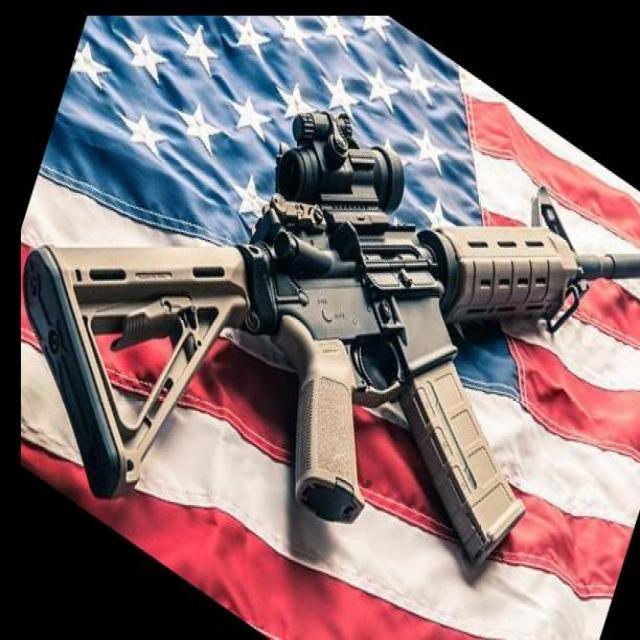weapon: (22, 112, 640, 573)
